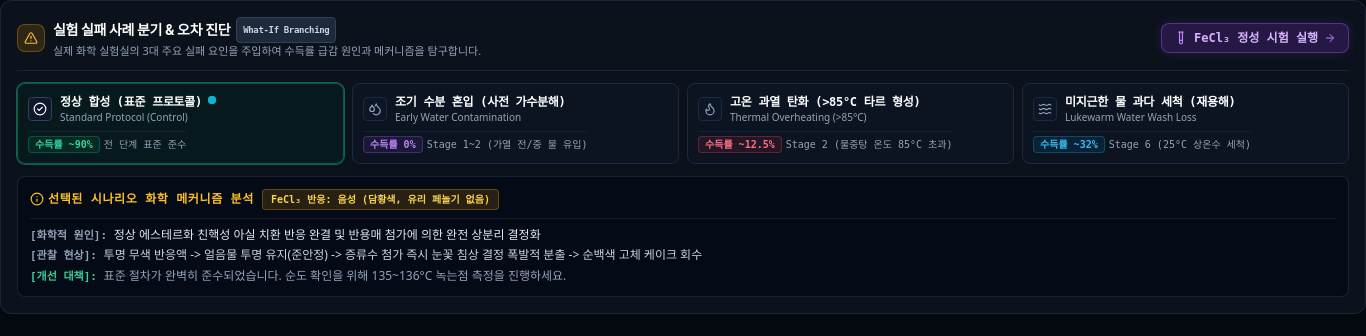
Scenario: Milestone 4: Failure Branching Controls, FeCl3 Test Modal & Audio-Visual HUD › 2. FailureScenarioControl Component › switches failure mode to OVERHEATING and displays tar degradation info
Click the button with test id "failure-btn-OVERHEATING".
click(850, 123)  # box [687,82,1014,164]
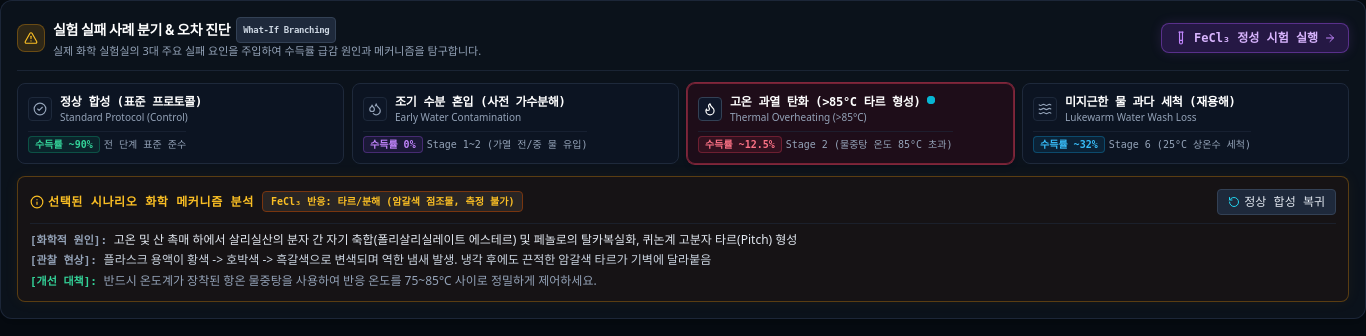
Check: the text "고온 과열 탄화 (>85°C 타르 형성)" is shown, box [730,94,920,110]
Check: the text "살리실산의 분자 간 자기 축합" is shown, box [114,230,797,248]
